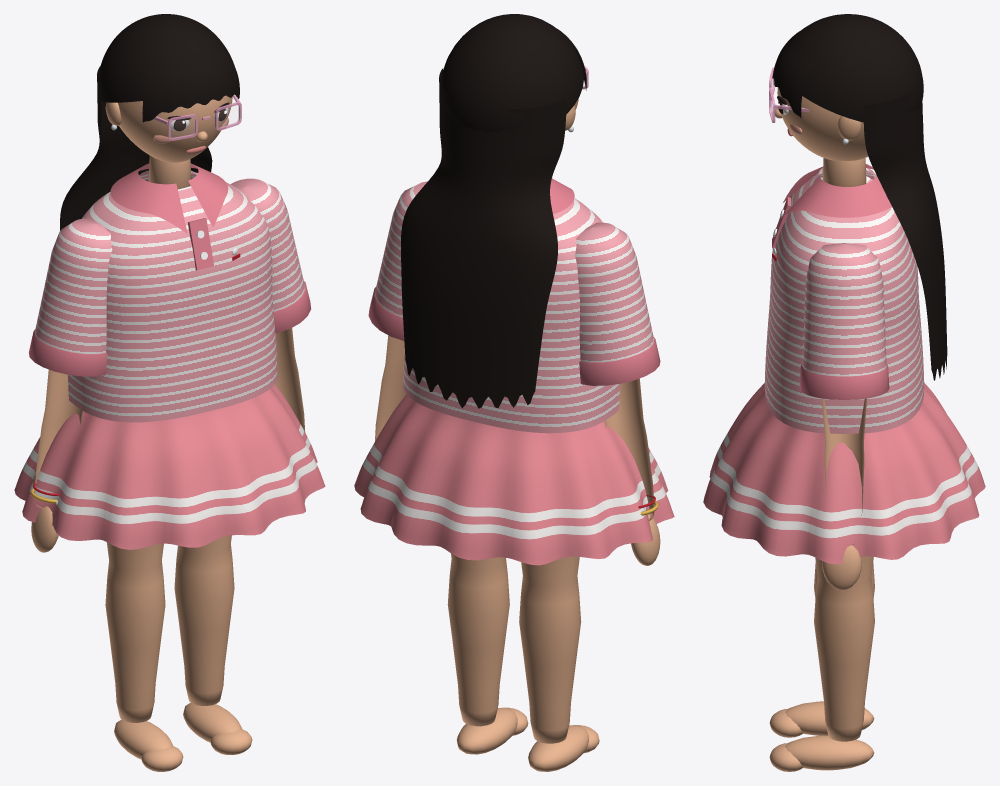
File: baochau.glb
The picture shows the model from 3 angles, left to right: view 1: azimuth 30°, elevation 25°; view 2: azimuth 150°, elevation 25°; view 3: azimuth 270°, elevation 25°; orthographic projection. The views are drawn at different scales.
Parts seen in each view (by area): view 1: Body, Head_Geo, Arm_R, Leg_R, Leg_L, Arm_L; view 2: Head_Geo, Body, Arm_R, Leg_R, Leg_L, Arm_L; view 3: Body, Head_Geo, Arm_L, Leg_L, Leg_R.
Boxes of the visible parts, box(x1,y1,x2,y2) form: Body: box(14, 155, 325, 549); Head_Geo: box(60, 14, 241, 230); Arm_R: box(28, 218, 112, 552); Leg_R: box(105, 542, 183, 771); Leg_L: box(174, 535, 252, 754); Arm_L: box(230, 178, 311, 431); Head_Geo: box(401, 14, 588, 408); Body: box(354, 178, 674, 565); Arm_R: box(574, 222, 660, 565); Leg_R: box(519, 556, 599, 771); Leg_L: box(447, 553, 528, 754); Arm_L: box(368, 181, 427, 441); Body: box(703, 158, 985, 564); Head_Geo: box(769, 14, 947, 380); Arm_L: box(799, 243, 889, 590); Leg_L: box(769, 556, 874, 771); Leg_R: box(769, 562, 874, 737).
Size of the model in its own units: 0.5234 by 1.29 by 0.4528.
17 materials, 2 textured.
